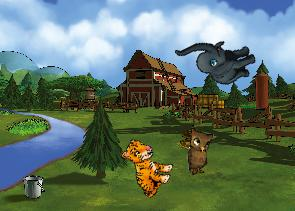elephant: (174, 19, 261, 100)
owl: (185, 126, 217, 175)
tiger: (110, 135, 179, 201)
